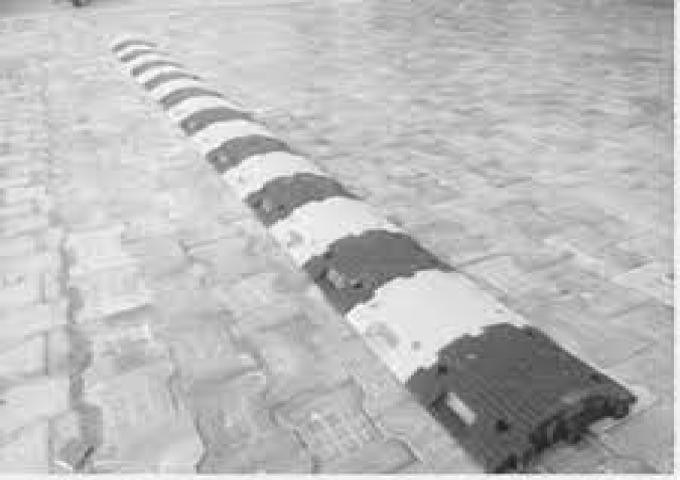speedbreaker: (61, 28, 611, 479)
